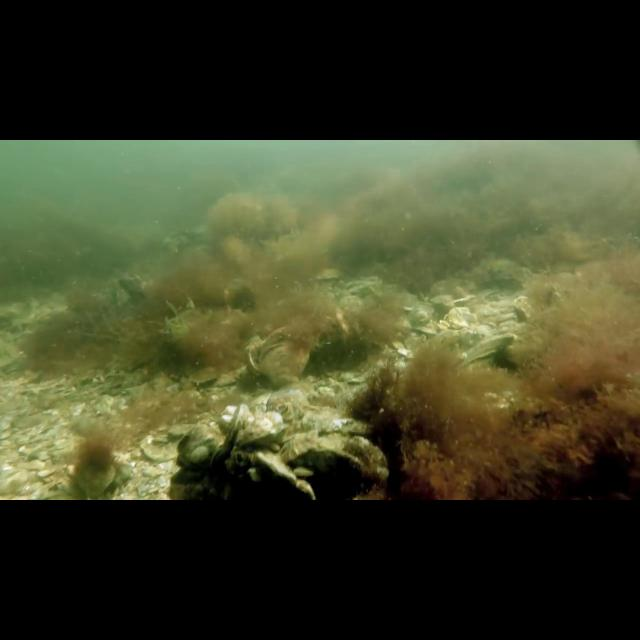Oyster-Closed: (257, 337, 311, 385), (211, 401, 250, 467), (250, 448, 302, 495), (283, 431, 342, 472), (235, 418, 296, 451), (454, 346, 502, 372), (311, 264, 348, 287)
